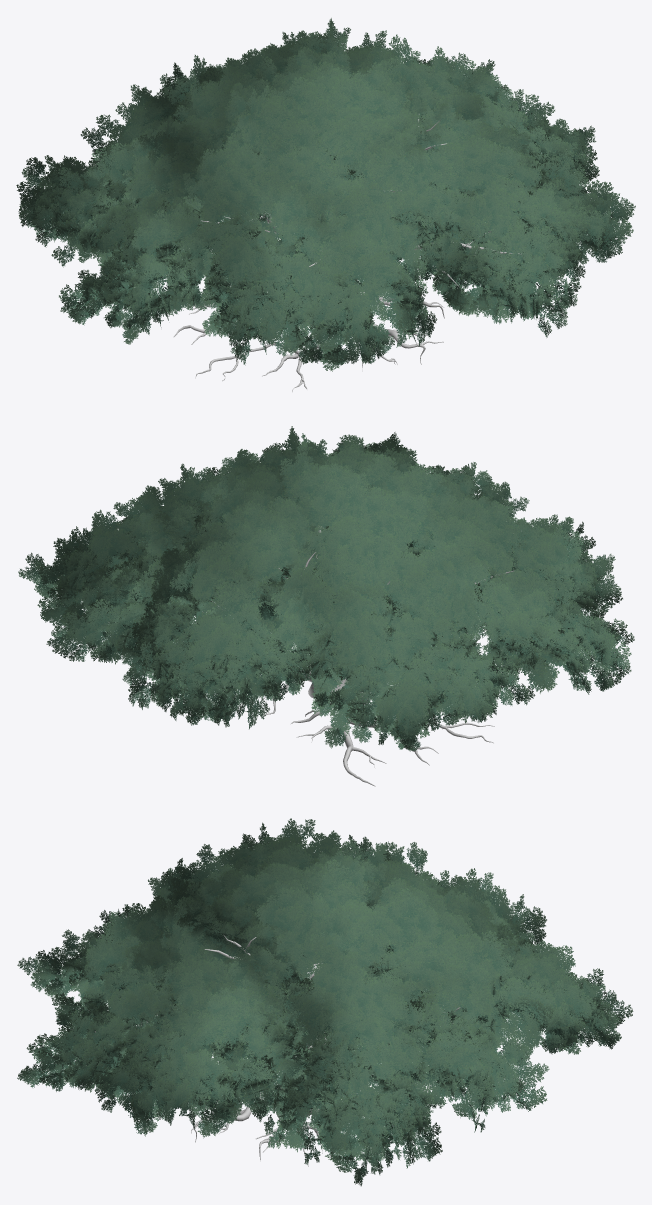
Rendered from genshinTree.fbx.
3 views of the same model, one above another, from view 1: azimuth 30°, elevation 25°; view 2: azimuth 150°, elevation 25°; view 3: azimuth 270°, elevation 25° (orthographic). The views are drawn at different scales.
Visible parts, largest first — view 1: GenshinTree; view 2: GenshinTree; view 3: GenshinTree.
Part boxes in pixels (x1=…): GenshinTree: x1=16, y1=18, x2=635, y2=392; GenshinTree: x1=18, y1=426, x2=634, y2=786; GenshinTree: x1=17, y1=818, x2=633, y2=1186.
Size of the model in its own units: 125 by 59.57 by 117.
